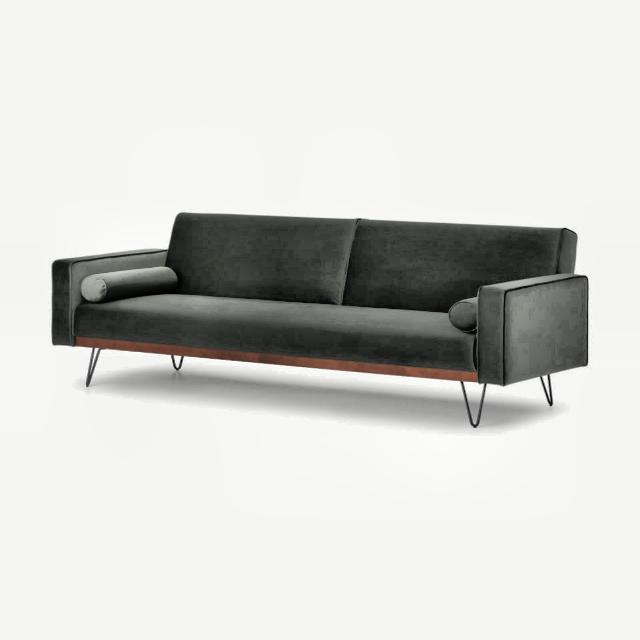sofa: (50, 213, 591, 429)
